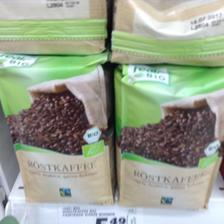Kaffee: (0, 52, 110, 204), (112, 64, 224, 212)
